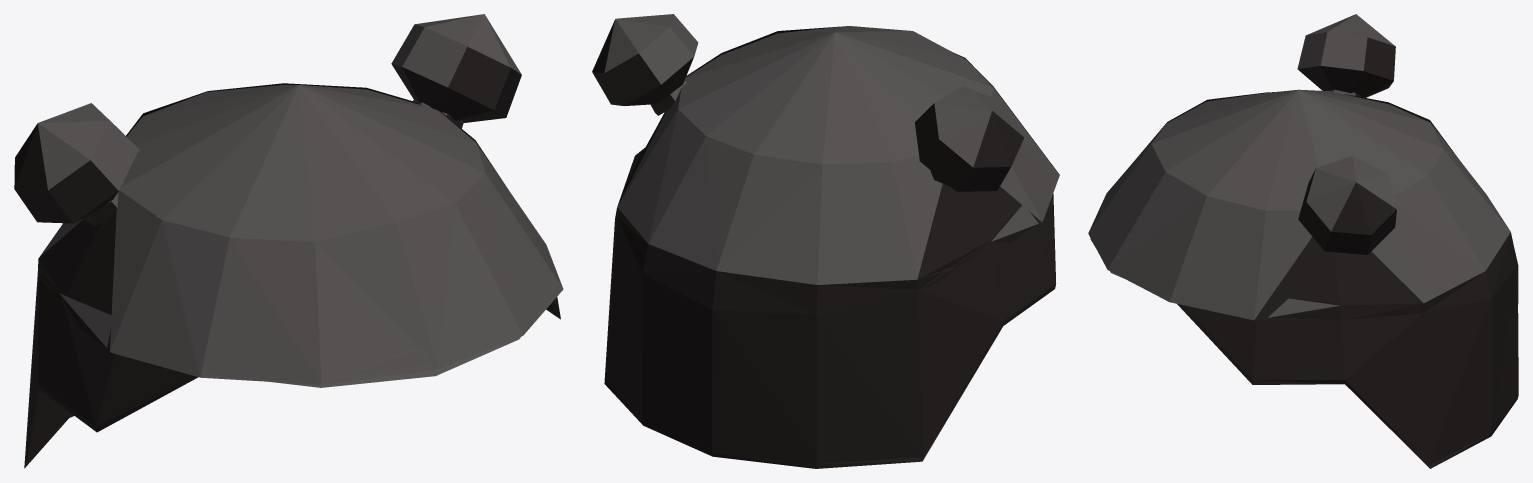
Rendered from hair_twin_buns_01.glb.
3 renders of one model, left to right at view 1: azimuth 30°, elevation 25°; view 2: azimuth 150°, elevation 25°; view 3: azimuth 270°, elevation 25°, orthographic. The views are drawn at different scales.
Parts seen in each view (by area): view 1: hair_twin_buns_01; view 2: hair_twin_buns_01; view 3: hair_twin_buns_01.
Boxes of the visible parts, box(x1,y1,x2,y2) form: hair_twin_buns_01: box(14, 14, 563, 468); hair_twin_buns_01: box(592, 14, 1059, 468); hair_twin_buns_01: box(1088, 14, 1518, 468).
Size of the model in its own units: 0.2773 by 0.2162 by 0.2732.
Materials: 1 (1 with a texture image).
